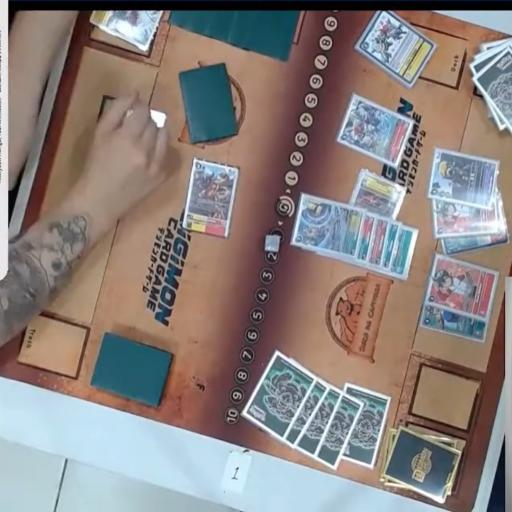card: (356, 6, 434, 87), (335, 95, 414, 169), (421, 256, 503, 322), (182, 160, 242, 239), (426, 150, 499, 208), (290, 202, 363, 259), (427, 191, 511, 240), (88, 1, 161, 54), (420, 300, 496, 343), (344, 176, 412, 220), (441, 226, 512, 259), (393, 222, 420, 289), (354, 210, 374, 270), (372, 215, 387, 274), (384, 222, 398, 278)
